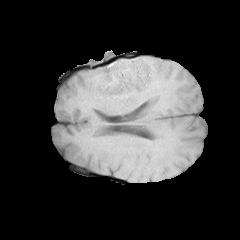glioma: (97, 59, 142, 93)
